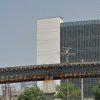Bridge: (2, 55, 94, 91)
